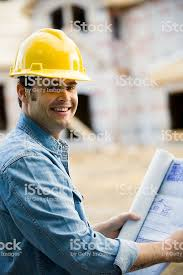Person_wearing_helmet: (4, 24, 95, 96)
